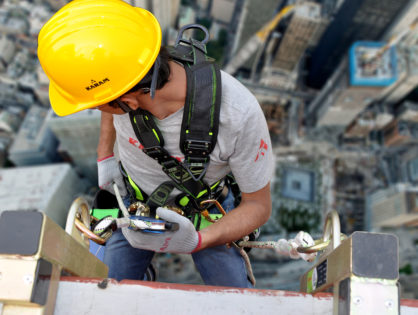epi: (30, 1, 275, 296)
